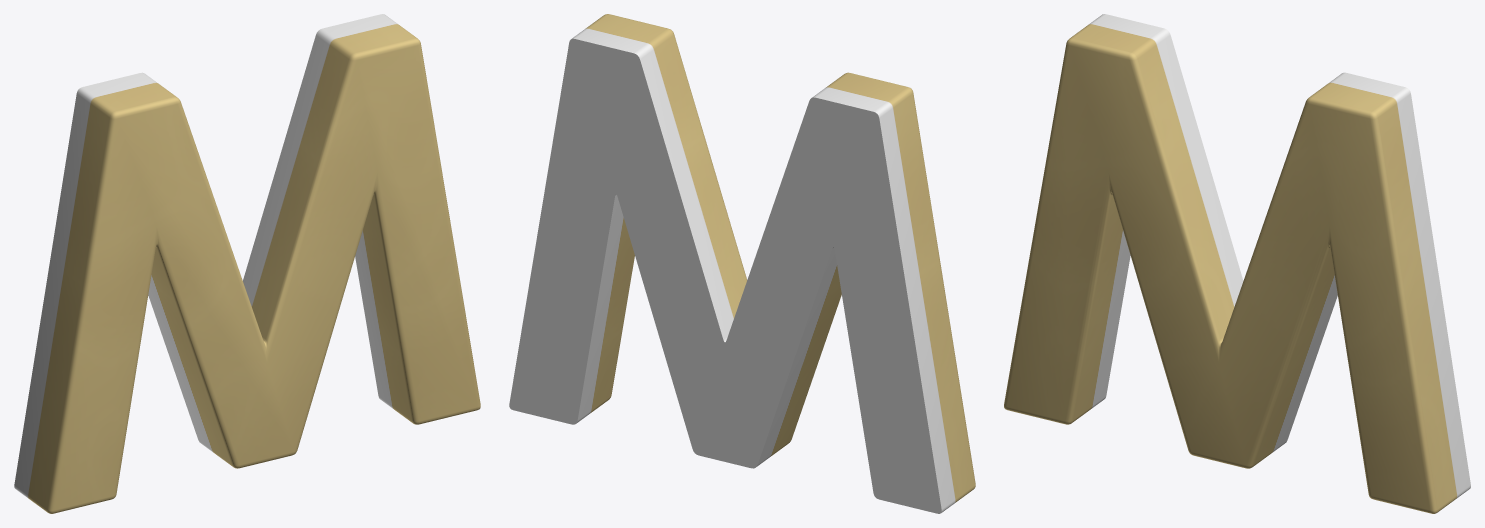
Rendered from LettersLightUp01_M.FBX.
3 views of the same model, side by side, from view 1: azimuth 30°, elevation 25°; view 2: azimuth 150°, elevation 25°; view 3: azimuth 330°, elevation 25° (orthographic).
Parts seen in each view (by area): view 1: LettersLightUp01_M; view 2: LettersLightUp01_M; view 3: LettersLightUp01_M.
Part boxes in pixels (bbox=[...]): LettersLightUp01_M: bbox=[14, 14, 480, 513]; LettersLightUp01_M: bbox=[509, 14, 975, 513]; LettersLightUp01_M: bbox=[1004, 14, 1470, 513].
Size of what is drawn, in the model's own units: 0.7028 by 0.6001 by 0.1012.
